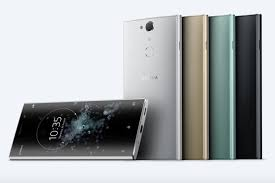sony: (6, 94, 150, 165)
